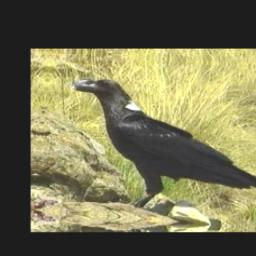Crow: (55, 75, 256, 223)
